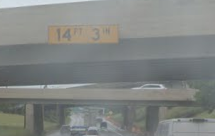1: (53, 26, 62, 43)
3: (91, 26, 101, 41)
4: (61, 26, 72, 44)
overheadsign: (48, 25, 119, 44)
